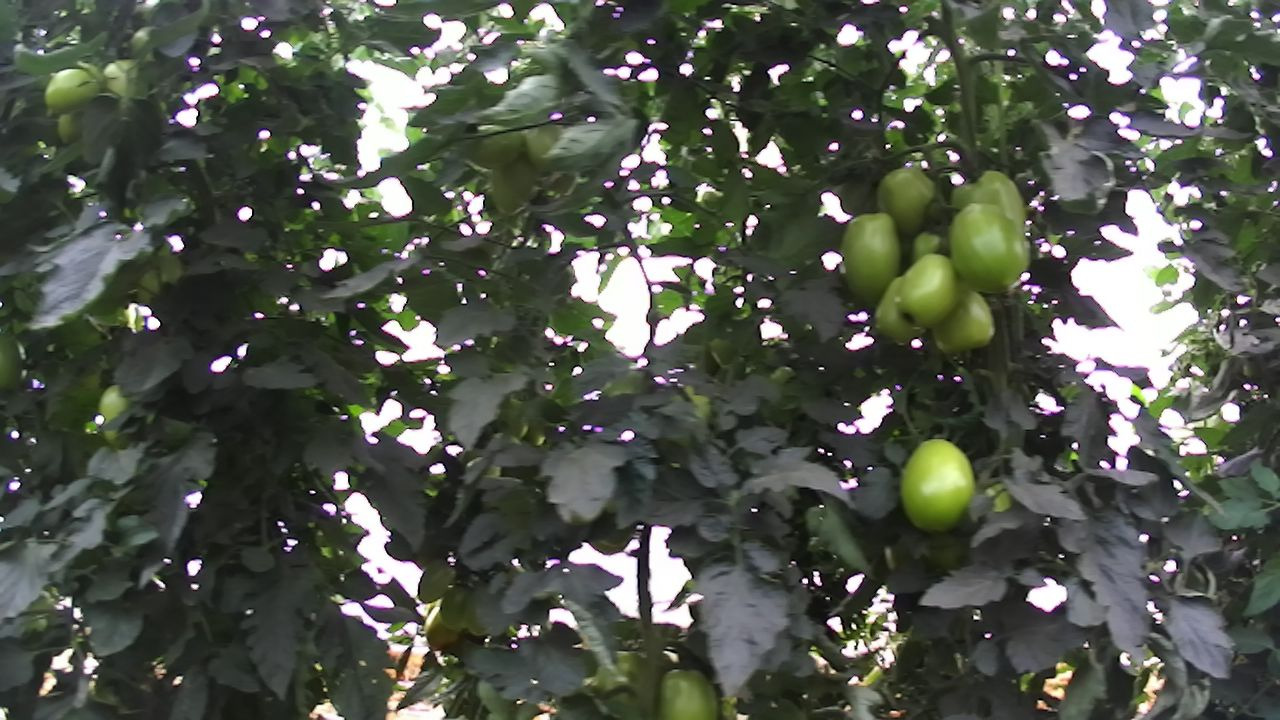tomato: (943, 199, 1036, 296), (897, 436, 979, 537), (837, 207, 905, 317), (896, 250, 967, 331), (872, 161, 948, 236), (929, 282, 998, 357), (650, 664, 725, 720), (38, 62, 105, 121)
